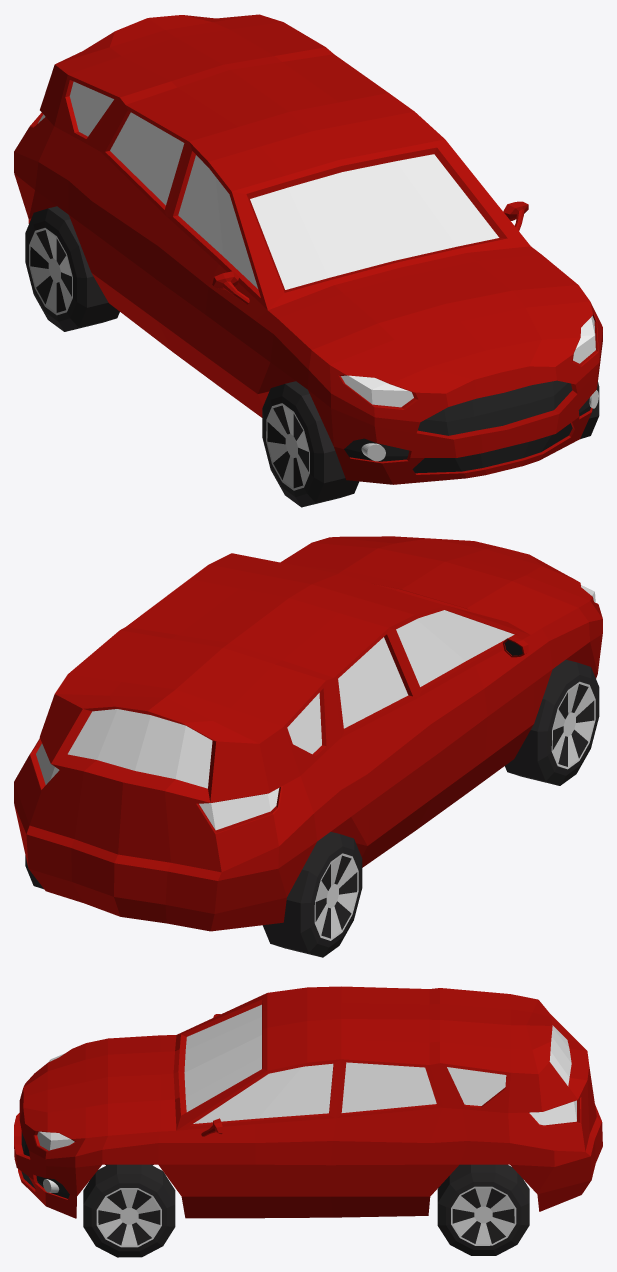
File: 3red.fbx
3 views of the same model, one above another, from view 1: azimuth 30°, elevation 25°; view 2: azimuth 150°, elevation 25°; view 3: azimuth 270°, elevation 25° (orthographic). The views are drawn at different scales.
Parts seen in each view (by area): view 1: Cube; view 2: Cube; view 3: Cube.
Boxes of the visible parts, <box> form: Cube: <box>14,14,602,507</box>; Cube: <box>14,536,602,957</box>; Cube: <box>14,986,602,1257</box>.
Size of the model in its own units: 116 by 88.42 by 250.
